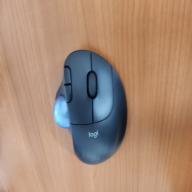mouse: (52, 48, 128, 166)
